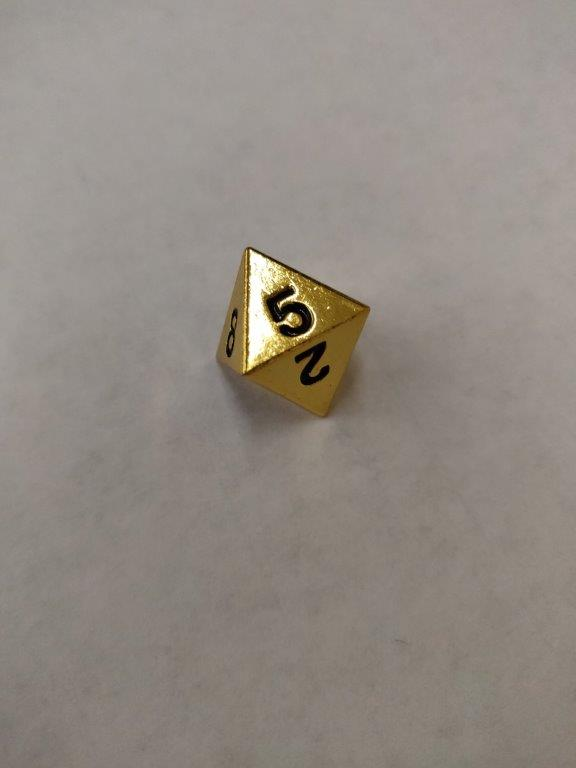d8-5: (211, 247, 371, 418)
